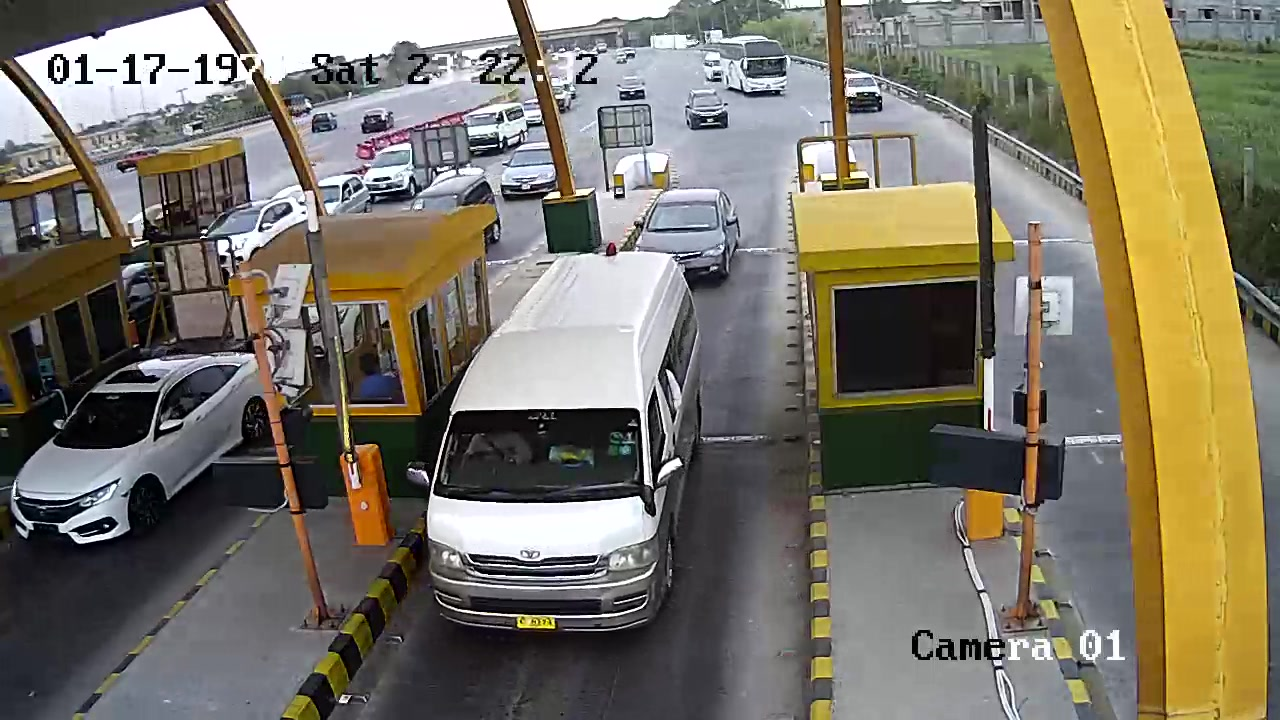F3: (422, 255, 709, 639)
